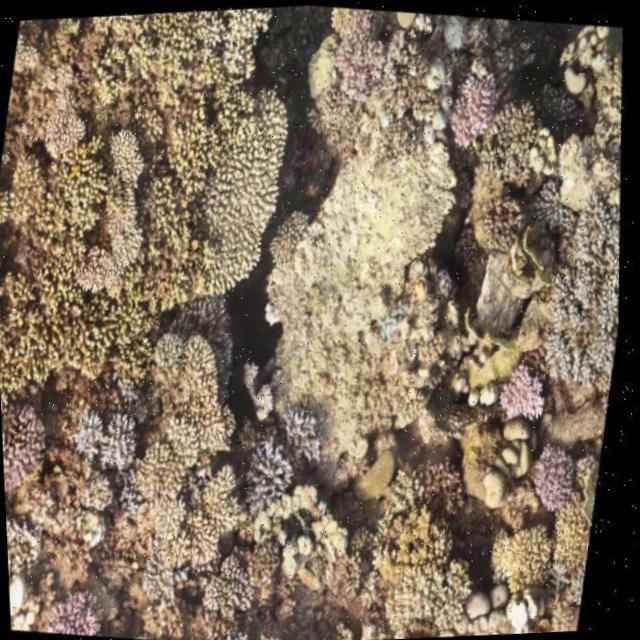Bleached Coral: (224, 339, 356, 523), (527, 181, 634, 390), (56, 394, 162, 476), (146, 525, 202, 616), (506, 567, 562, 634), (8, 540, 52, 623), (82, 508, 124, 559), (261, 279, 301, 332)
Healthy Coral: (0, 1, 298, 371), (307, 2, 421, 136), (384, 542, 471, 636), (1, 394, 56, 502), (450, 59, 508, 152), (192, 563, 261, 630), (532, 446, 578, 516), (500, 369, 544, 423)
